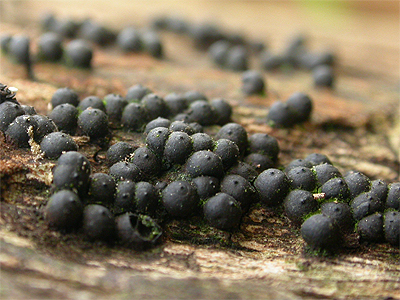pudricion radicular: (2, 76, 398, 286)
